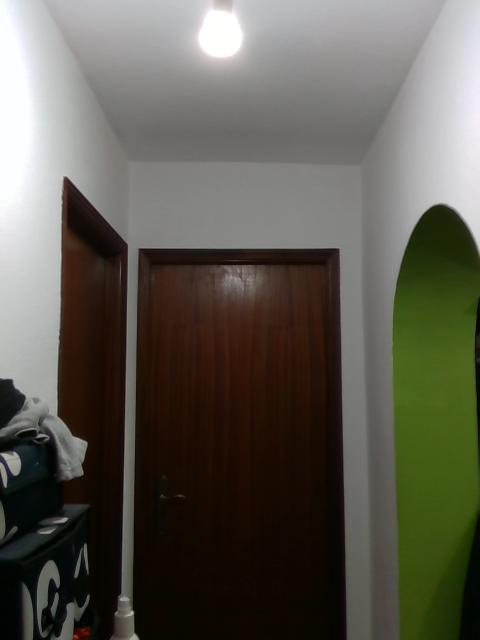door: (146, 262, 327, 640), (65, 221, 111, 618)
